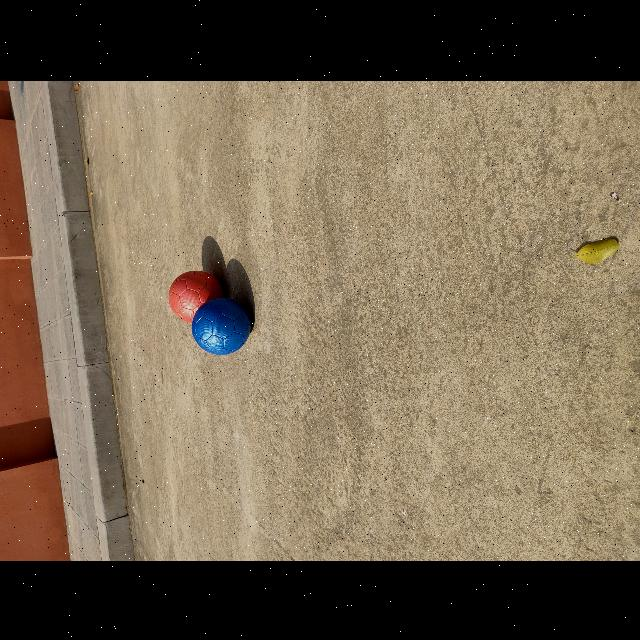B: (192, 297, 251, 355)
R: (168, 270, 224, 322)
